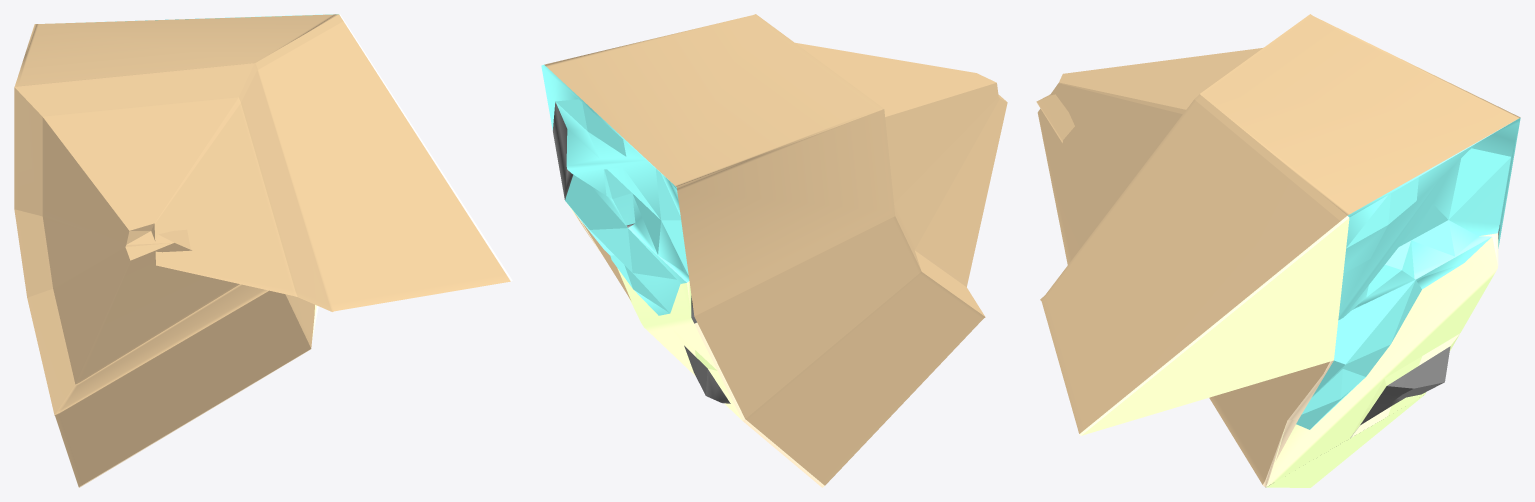
Rendered from chunk14.fbx.
3 views of the same model, side by side, from view 1: azimuth 30°, elevation 25°; view 2: azimuth 150°, elevation 25°; view 3: azimuth 270°, elevation 25° (orthographic). The views are drawn at different scales.
Visible parts, largest first — view 1: chunk14; view 2: chunk14; view 3: chunk14.
Boxes of the visible parts, box(x1,y1,x2,y2) form: chunk14: box(14, 14, 512, 487); chunk14: box(541, 14, 1007, 487); chunk14: box(1036, 14, 1520, 487).
Size of the model in its own units: 4.76 by 4.65 by 4.46.
